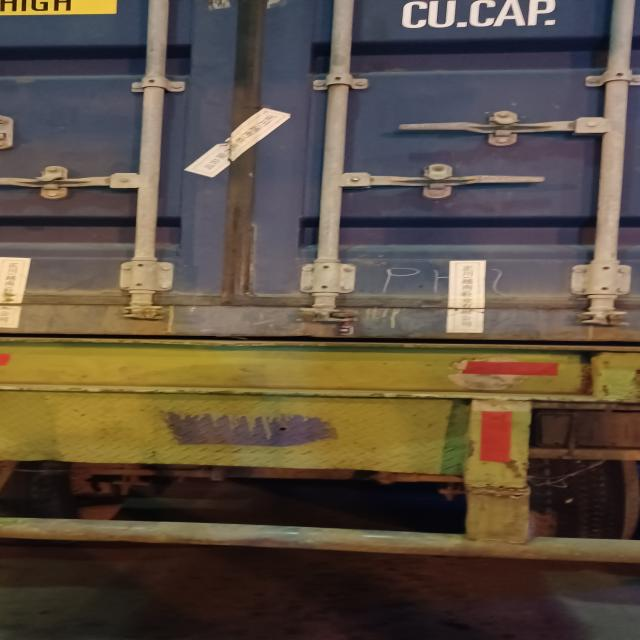seal: (334, 308, 359, 336)
